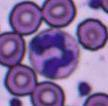N: (29, 30, 79, 78)
